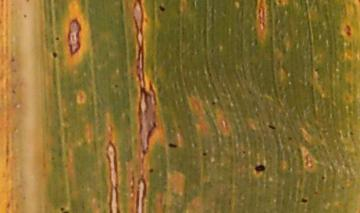tarspot: (253, 163, 266, 173), (167, 141, 178, 149), (59, 206, 71, 213), (157, 4, 166, 13), (266, 123, 276, 130), (51, 49, 58, 58), (300, 196, 308, 203), (147, 166, 154, 174), (21, 12, 28, 20), (112, 82, 119, 90), (313, 66, 320, 73), (201, 151, 208, 158), (210, 99, 217, 106), (348, 129, 354, 137), (286, 135, 293, 141), (54, 35, 61, 41), (320, 174, 325, 181), (25, 1, 30, 3)
